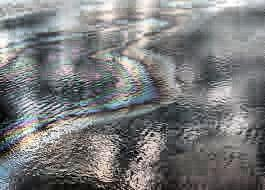rainbow: (0, 32, 154, 152)
